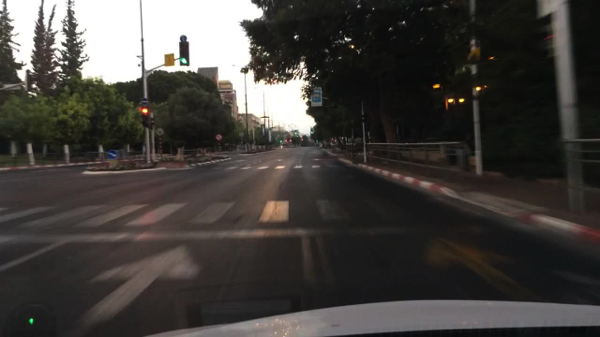traffic light: (179, 40, 190, 67), (139, 107, 151, 128), (25, 76, 33, 92), (150, 116, 157, 127), (279, 138, 283, 143), (294, 130, 297, 135)
traffic sign: (164, 54, 175, 66), (107, 150, 118, 159), (139, 97, 148, 106), (155, 128, 165, 136), (179, 34, 186, 41), (25, 68, 31, 75), (216, 134, 222, 140)
